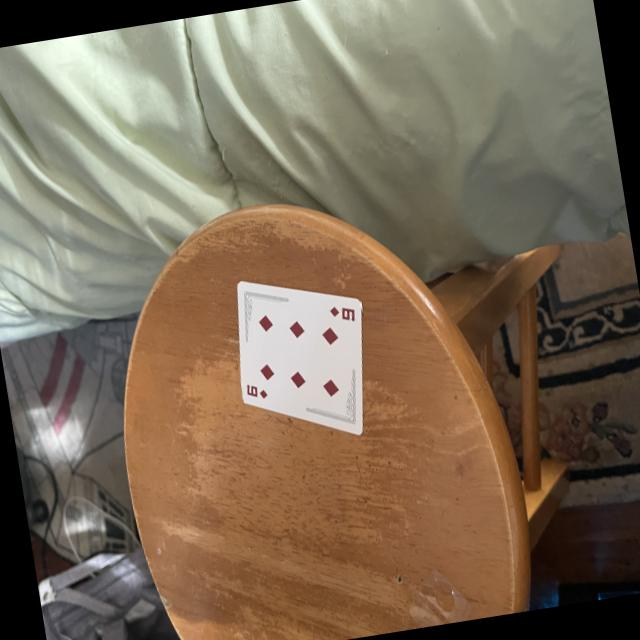6 of diamonds: (240, 282, 361, 434)
